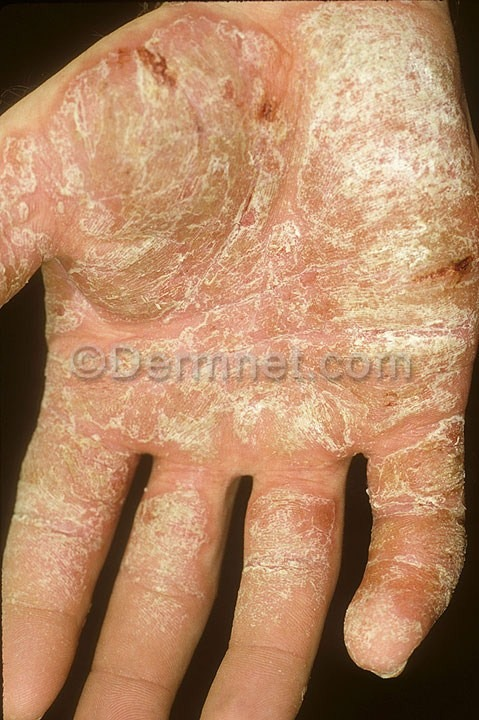Psoriasis: (36, 16, 474, 358), (353, 370, 469, 664), (232, 381, 347, 646), (7, 399, 110, 592), (144, 372, 224, 619)
